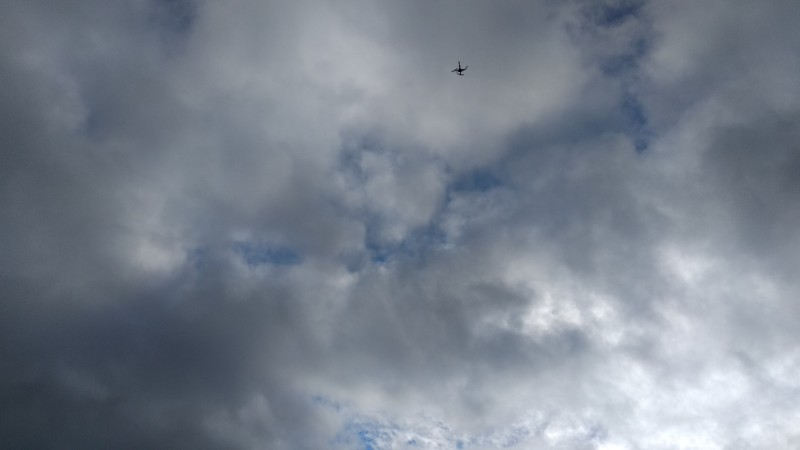drone: (452, 62, 469, 76)
